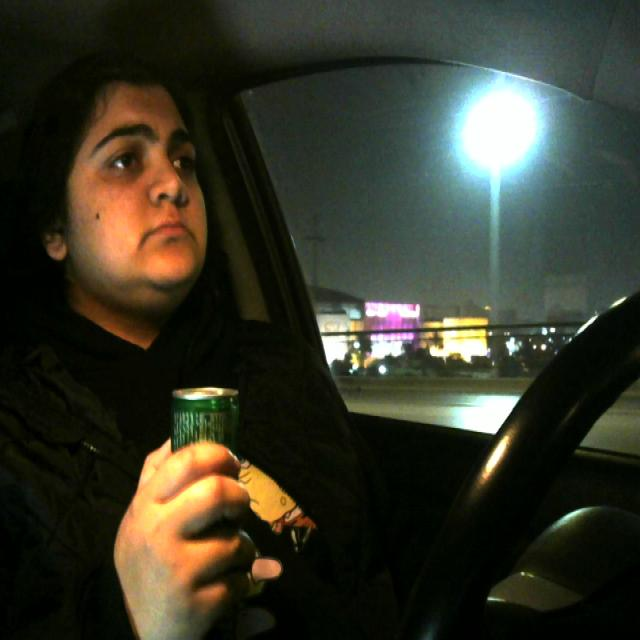drinking: (163, 384, 249, 633)
